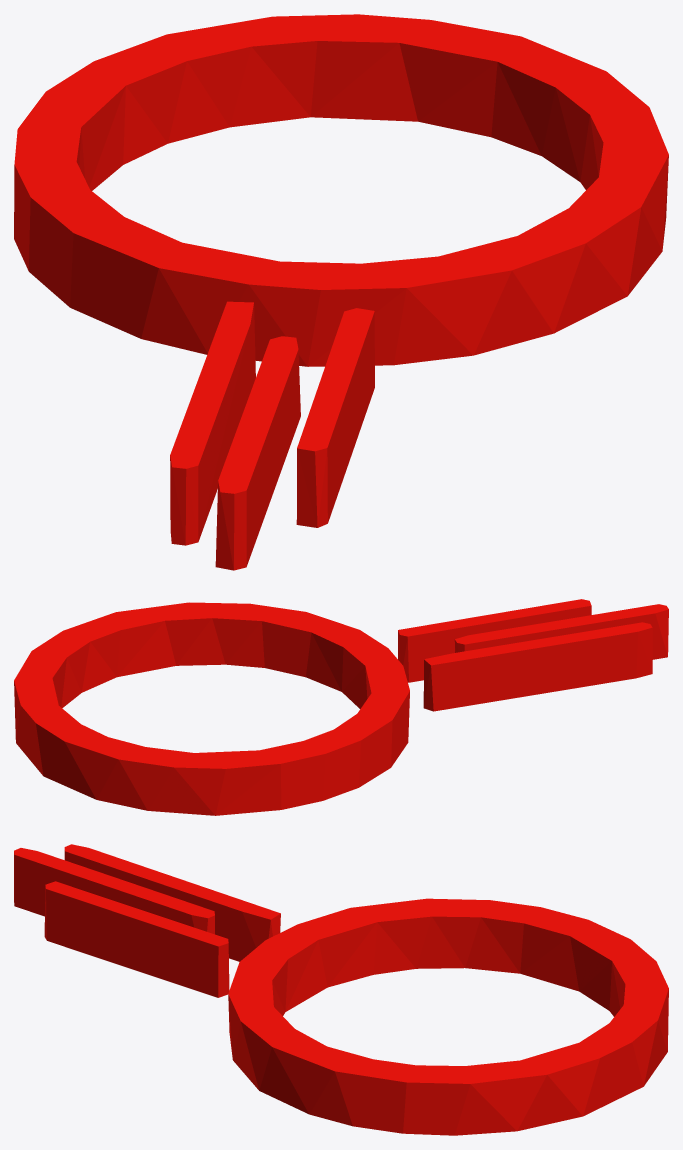
The model's file is Jump.fbx.
The picture shows the model from 3 angles, top to bottom: view 1: azimuth 30°, elevation 25°; view 2: azimuth 150°, elevation 25°; view 3: azimuth 270°, elevation 25°; orthographic projection. The views are drawn at different scales.
Visible parts, largest first — view 1: Jump; view 2: Jump; view 3: Jump.
Boxes of the visible parts, x1,y1,x2,y2 form: Jump: (14, 14, 668, 570); Jump: (14, 599, 668, 815); Jump: (14, 844, 668, 1135).
Size of the model in its own units: 17.67 by 1.77 by 20.38.
